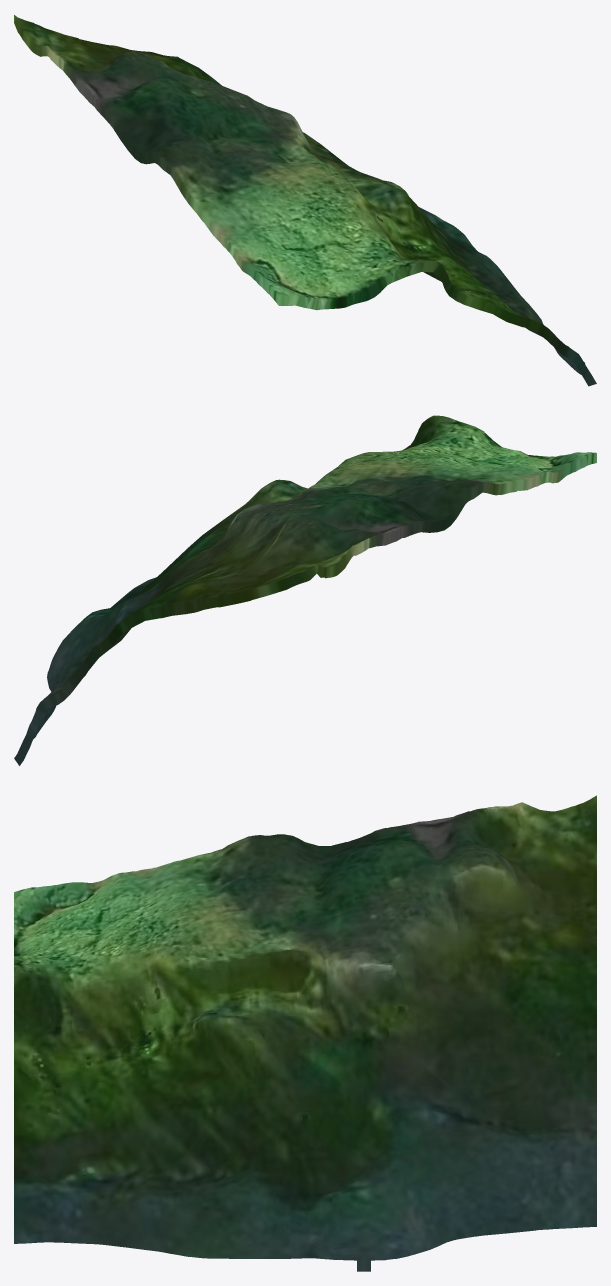
File: z20-167553-405171-h1-yup-uvflip-v3-world.glb
3 views of the same model, one above another, from view 1: azimuth 30°, elevation 25°; view 2: azimuth 150°, elevation 25°; view 3: azimuth 270°, elevation 25° (orthographic). The views are drawn at different scales.
Size of the model in its own units: 23.04 by 16.6 by 30.32.
Materials: 1 (1 with a texture image).
